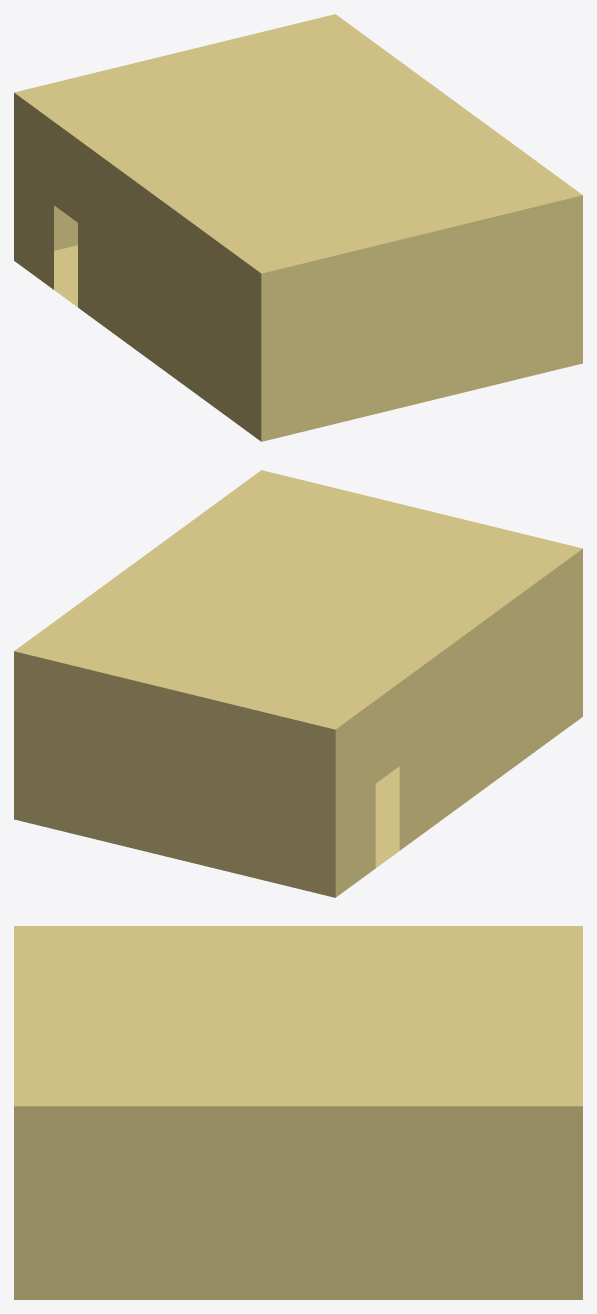
File: bazacasaNPC.fbx
3 views of the same model, one above another, from view 1: azimuth 30°, elevation 25°; view 2: azimuth 150°, elevation 25°; view 3: azimuth 270°, elevation 25° (orthographic). The views are drawn at different scales.
Visible parts, largest first — view 1: BazaCasaNPC; view 2: BazaCasaNPC; view 3: BazaCasaNPC.
Boxes of the visible parts, left/top/right/bottom form: BazaCasaNPC: left=14, top=14, right=582, bottom=441; BazaCasaNPC: left=14, top=470, right=582, bottom=897; BazaCasaNPC: left=14, top=926, right=582, bottom=1299.
Size of the model in its own units: 600 by 300 by 800.
